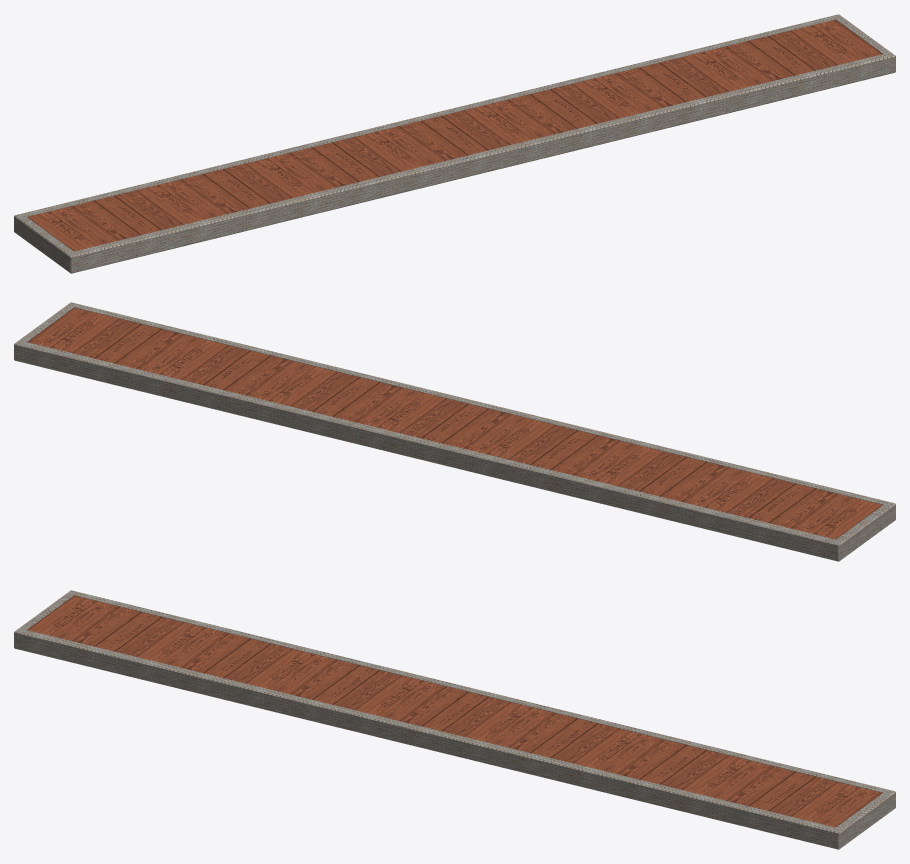
Rendered from Bridge.fbx.
3 views of the same model, one above another, from view 1: azimuth 30°, elevation 25°; view 2: azimuth 150°, elevation 25°; view 3: azimuth 330°, elevation 25° (orthographic).
Visible parts, largest first — view 1: Wood, Metal; view 2: Wood, Metal; view 3: Wood, Metal.
Part boxes in pixels (<box>): Wood: <box>27,19,882,251</box>; Metal: <box>14,14,895,273</box>; Wood: <box>27,307,882,539</box>; Metal: <box>14,302,895,561</box>; Wood: <box>27,595,882,827</box>; Metal: <box>14,590,895,849</box>.
Bounding box in the file's own units: 25 × 0.5 × 3.
